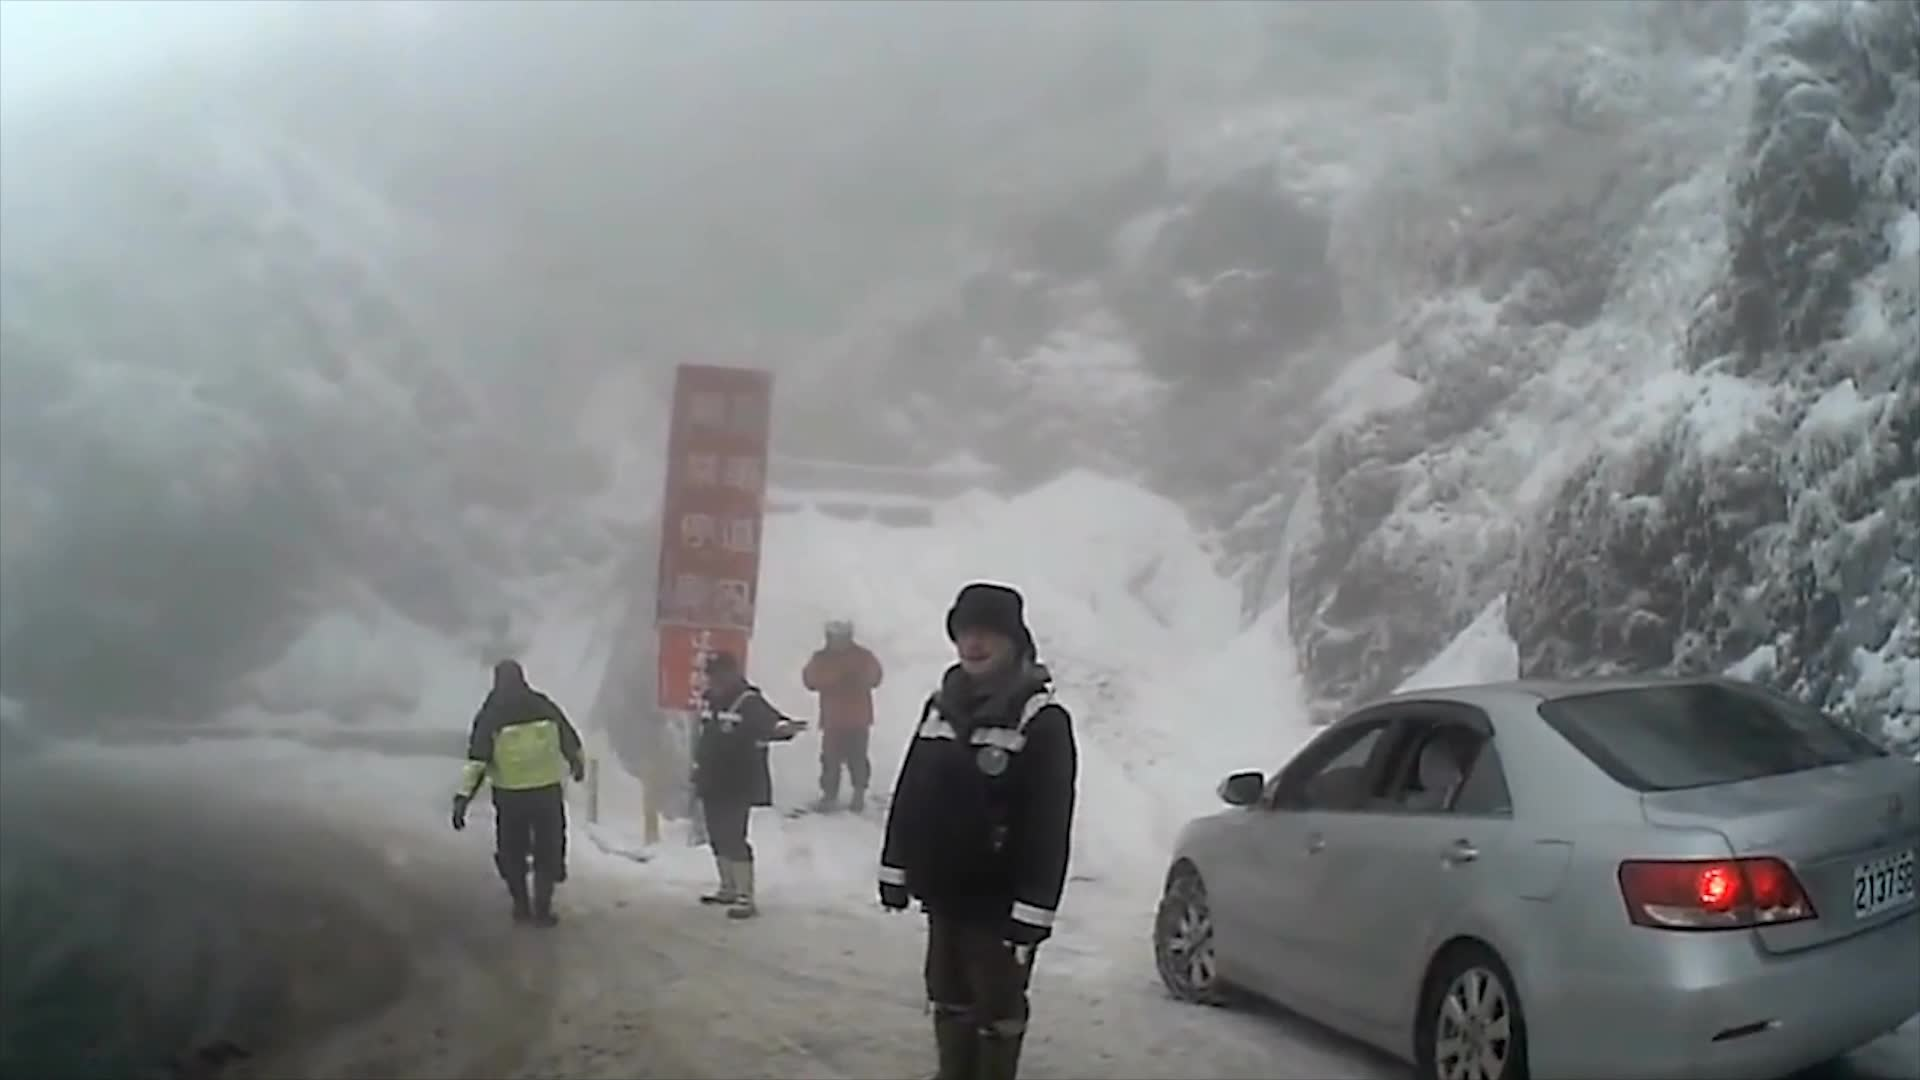pedestrian: (875, 570, 1078, 1080), (454, 658, 591, 925), (694, 647, 803, 917), (807, 615, 886, 812)
vehicle: (1149, 675, 1920, 1080)
